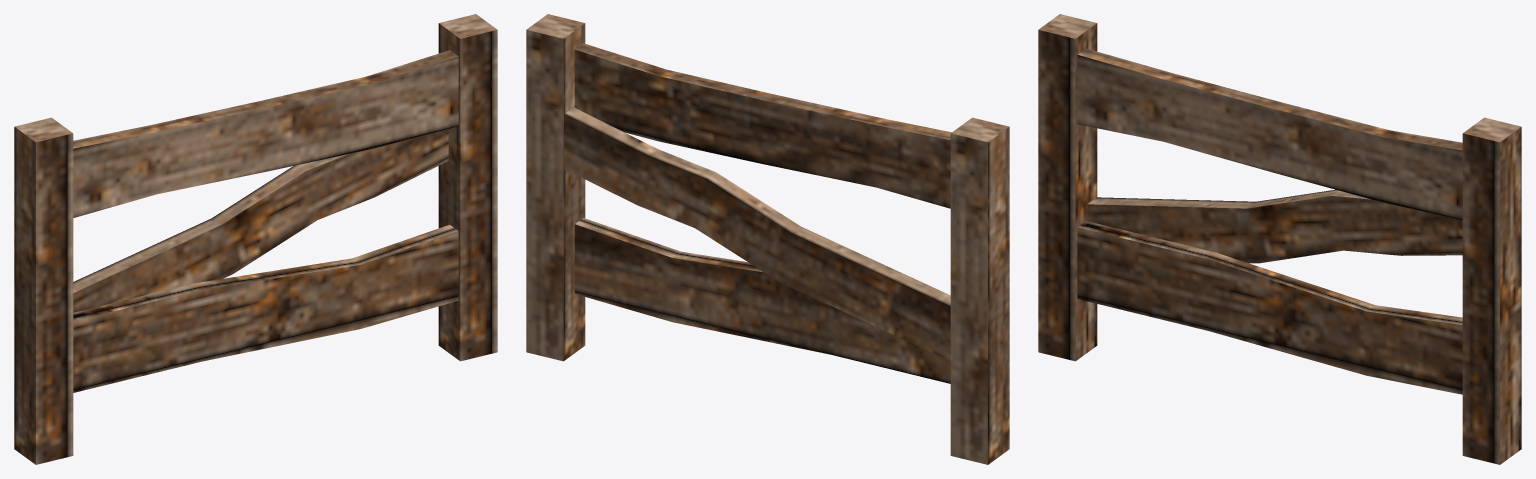
Rendered from Fence.fbx.
3 renders of one model, left to right at view 1: azimuth 30°, elevation 25°; view 2: azimuth 150°, elevation 25°; view 3: azimuth 330°, elevation 25°, orthographic.
Visible parts, largest first — view 1: Fence; view 2: Fence; view 3: Fence.
Part boxes in pixels (x1,y1,x2,y2): Fence: [14, 14, 497, 464]; Fence: [526, 14, 1009, 464]; Fence: [1038, 14, 1521, 464].
Bounding box in the file's own units: 1.3 × 0.8688 × 0.1051.
